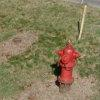Hydrant: (46, 28, 82, 92)
